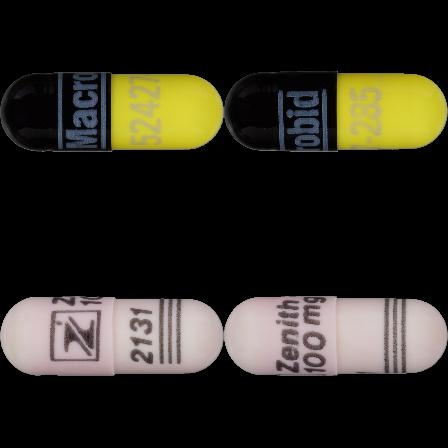50436-6590: (0, 0, 224, 224)
